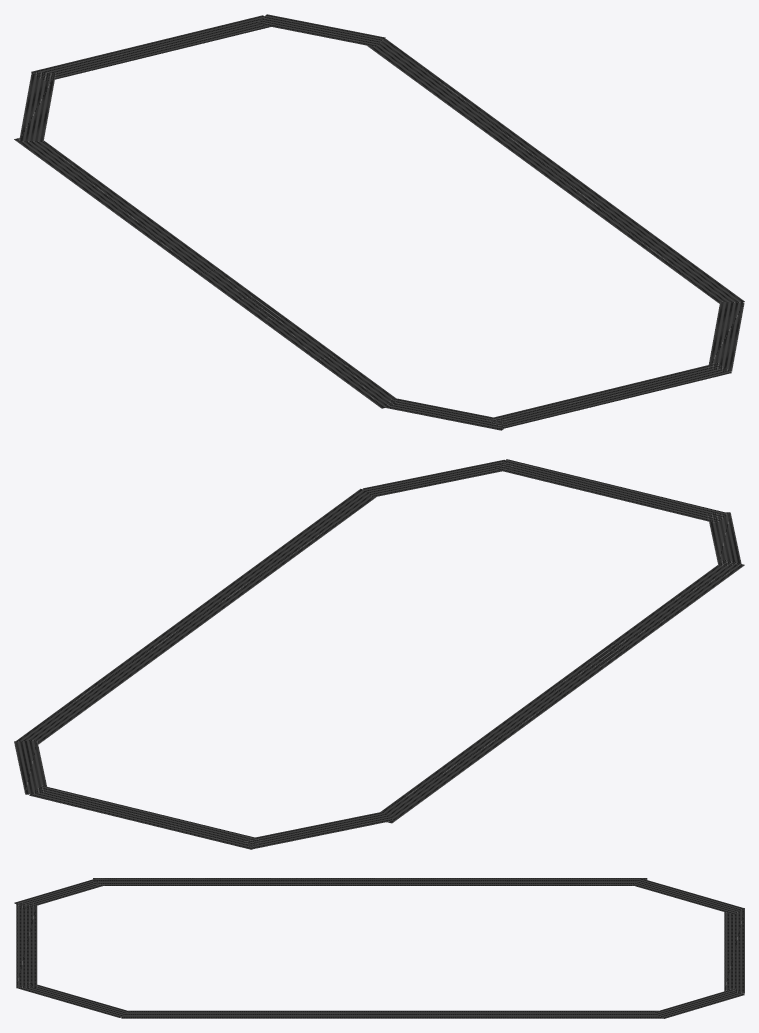
File: RaceCourse.FBX
3 views of the same model, one above another, from view 1: azimuth 30°, elevation 25°; view 2: azimuth 150°, elevation 25°; view 3: azimuth 270°, elevation 25° (orthographic). The views are drawn at different scales.
Parts seen in each view (by area): view 1: Box002, Box008, Box006, Box011, Box010, Box001, Box007, Box009, Box005, Box004, Box003; view 2: Box002, Box008, Box006, Box011, Box010, Box007, Box001, Box004, Box009, Box005, Box003; view 3: Box002, Box008, Box006, Box011, Box010, Box007, Box001, Box009, Box005, Box004, Box003.
Boxes of the visible parts, <box> form: Box002: <box>367,38,744,303</box>; Box008: <box>14,138,218,273</box>; Box006: <box>487,363,731,428</box>; Box011: <box>31,15,274,80</box>; Box010: <box>19,72,55,141</box>; Box001: <box>235,295,336,360</box>; Box007: <box>708,301,744,371</box>; Box009: <box>257,14,385,46</box>; Box005: <box>385,398,511,430</box>; Box004: <box>316,355,401,408</box>; Box003: <box>198,269,284,321</box>; Box002: <box>16,488,376,744</box>; Box008: <box>380,689,568,823</box>; Box006: <box>494,459,728,522</box>; Box011: <box>29,785,263,849</box>; Box010: <box>242,811,392,849</box>; Box007: <box>363,459,512,497</box>; Box001: <box>584,606,681,666</box>; Box004: <box>662,560,744,610</box>; Box009: <box>14,740,47,794</box>; Box005: <box>707,512,741,565</box>; Box003: <box>549,643,630,693</box>; Box002: <box>121,1010,663,1018</box>; Box008: <box>370,878,647,885</box>; Box006: <box>16,902,37,988</box>; Box011: <box>724,908,744,993</box>; Box010: <box>632,878,743,914</box>; Box007: <box>18,983,129,1017</box>; Box001: <box>191,878,314,885</box>; Box009: <box>654,989,744,1018</box>; Box005: <box>14,879,104,908</box>; Box004: <box>93,878,191,885</box>; Box003: <box>271,878,369,885</box>.
Size of the model in its own units: 27015 by 59285 by 20.45.
Materials: 1 (1 with a texture image).
